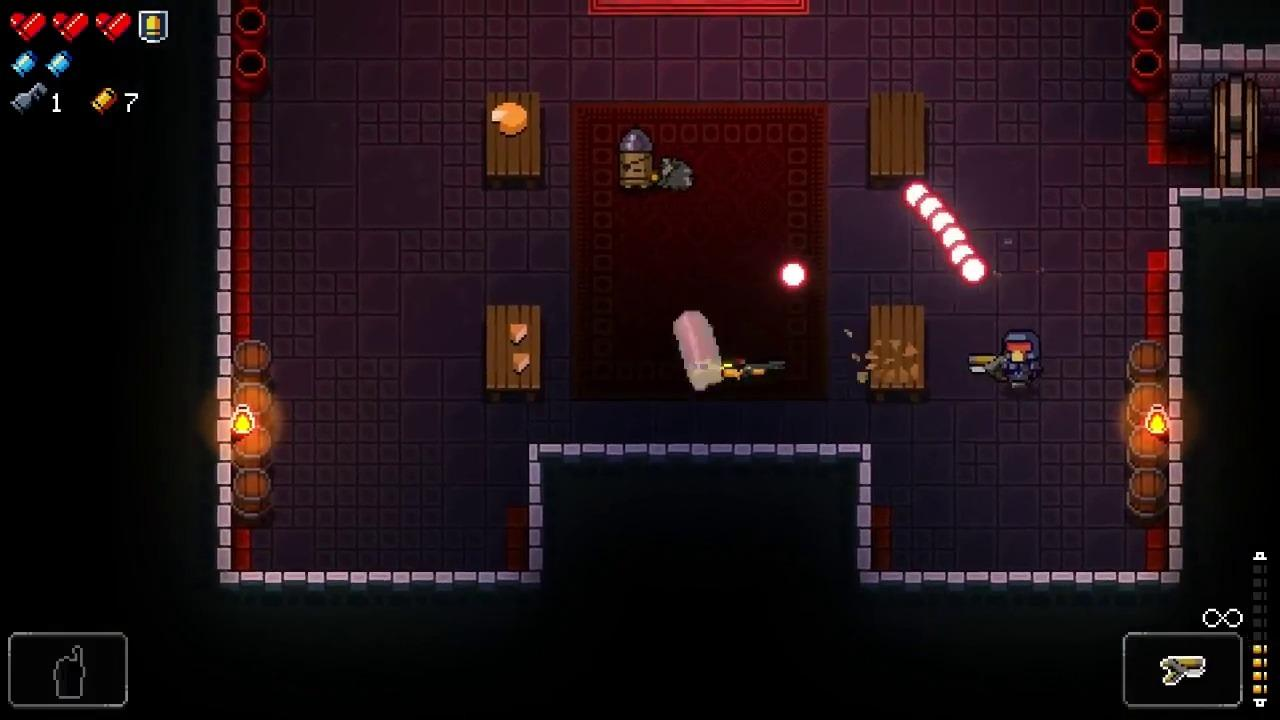bullet: (948, 242, 979, 272), (780, 262, 808, 291), (938, 224, 967, 251), (961, 256, 987, 285), (904, 179, 929, 209), (918, 195, 944, 223), (928, 209, 952, 237)
locked_door: (1213, 72, 1261, 189)
player: (1001, 333, 1041, 388)
red_shotgun_kin: (671, 310, 724, 391)
table: (871, 302, 925, 404), (870, 93, 923, 191), (487, 306, 540, 402), (488, 93, 541, 189)
veteran_bullet_kin: (620, 129, 655, 190)
